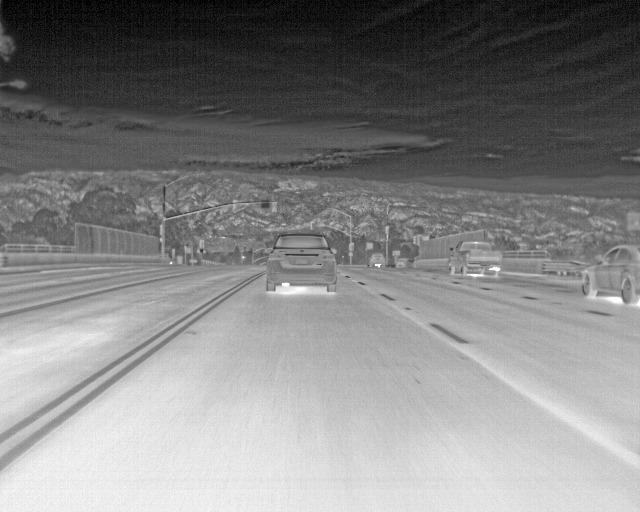car: (264, 233, 337, 292), (582, 245, 639, 304), (448, 241, 503, 276), (368, 252, 386, 268), (396, 258, 414, 268)
light: (232, 199, 238, 211), (271, 201, 277, 212), (349, 242, 354, 251), (310, 222, 315, 230), (160, 224, 163, 236), (413, 236, 417, 244), (200, 240, 204, 248), (349, 253, 353, 256)
sign: (261, 200, 269, 208), (366, 243, 373, 249), (392, 251, 400, 256)
